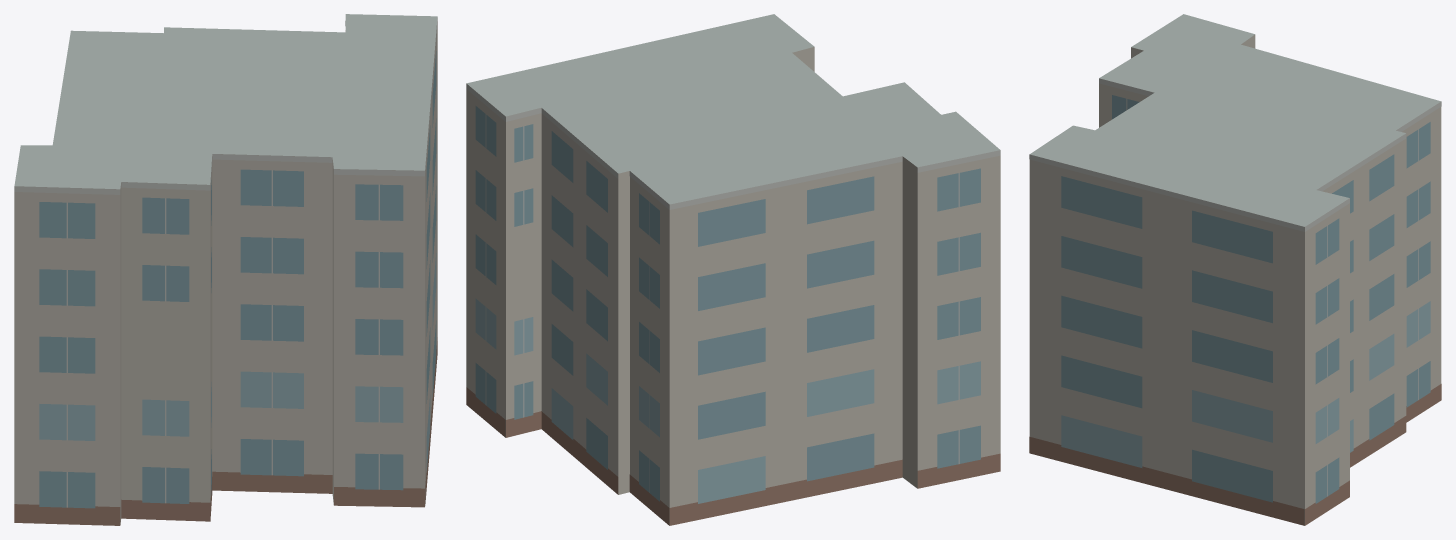
Rendered from survey-upis-32588919.glb.
3 renders of one model, left to right at view 1: azimuth 30°, elevation 25°; view 2: azimuth 150°, elevation 25°; view 3: azimuth 270°, elevation 25°, orthographic. The views are drawn at different scales.
Visible parts, largest first — view 1: survey-upis-32588919.tmp; view 2: survey-upis-32588919.tmp; view 3: survey-upis-32588919.tmp.
Part boxes in pixels (bbox=[...]): survey-upis-32588919.tmp: bbox=[14, 14, 437, 525]; survey-upis-32588919.tmp: bbox=[466, 14, 1000, 525]; survey-upis-32588919.tmp: bbox=[1029, 14, 1441, 525].
Size of the model in its own units: 21.85 by 14.3 by 17.87.
